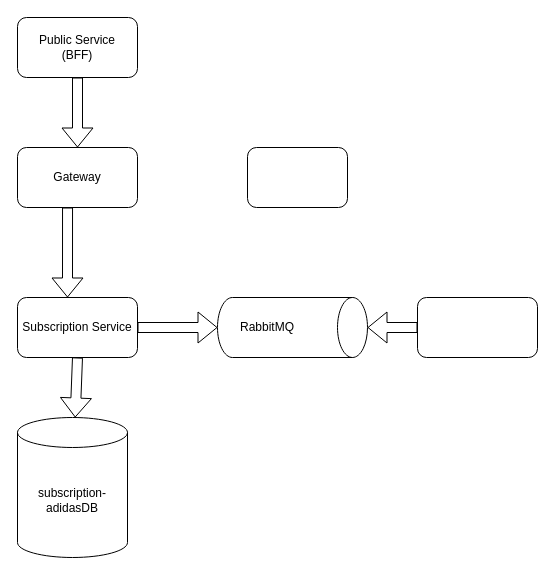
The diagram is 555 pixels wide and 575 high, and some of its shapes have lost their labels. Each missing label, with the box of its shape:
Email Service: (416, 296, 538, 358)
Eureka: (246, 146, 348, 208)
